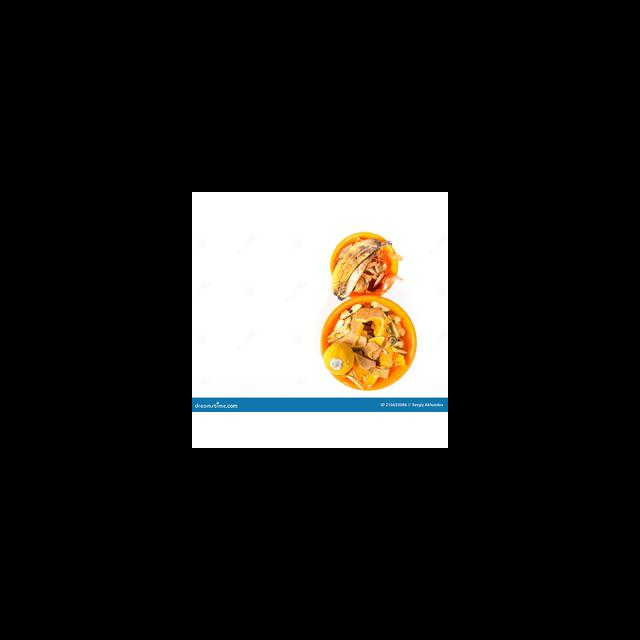food_waste: (322, 296, 416, 391), (329, 231, 401, 296)
